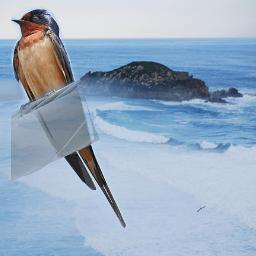Swallow: (11, 7, 127, 228)
